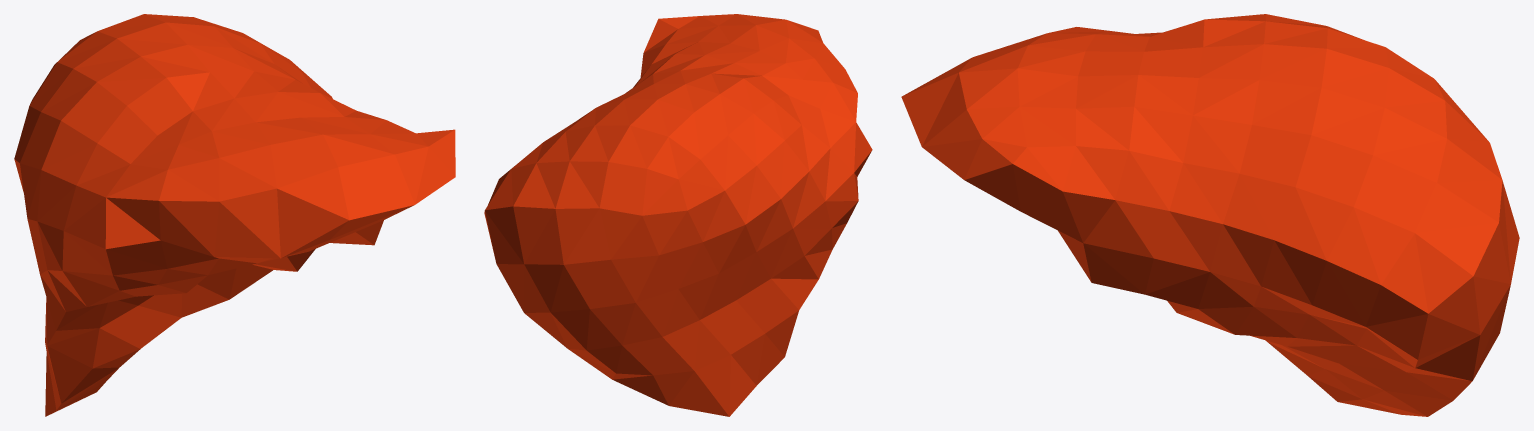
File: MeshCol_255_1_2.fbx
The picture shows the model from 3 angles, left to right: view 1: azimuth 30°, elevation 25°; view 2: azimuth 150°, elevation 25°; view 3: azimuth 270°, elevation 25°; orthographic projection. The views are drawn at different scales.
Visible parts, largest first — view 1: Parenchyma_complex_1.001; view 2: Parenchyma_complex_1.001; view 3: Parenchyma_complex_1.001.
Boxes of the visible parts, x1=… form: Parenchyma_complex_1.001: x1=14, y1=14, x2=455, y2=416; Parenchyma_complex_1.001: x1=484, y1=14, x2=872, y2=416; Parenchyma_complex_1.001: x1=901, y1=14, x2=1519, y2=416.
Bounding box in the file's own units: 79.69 × 79.13 × 108.
